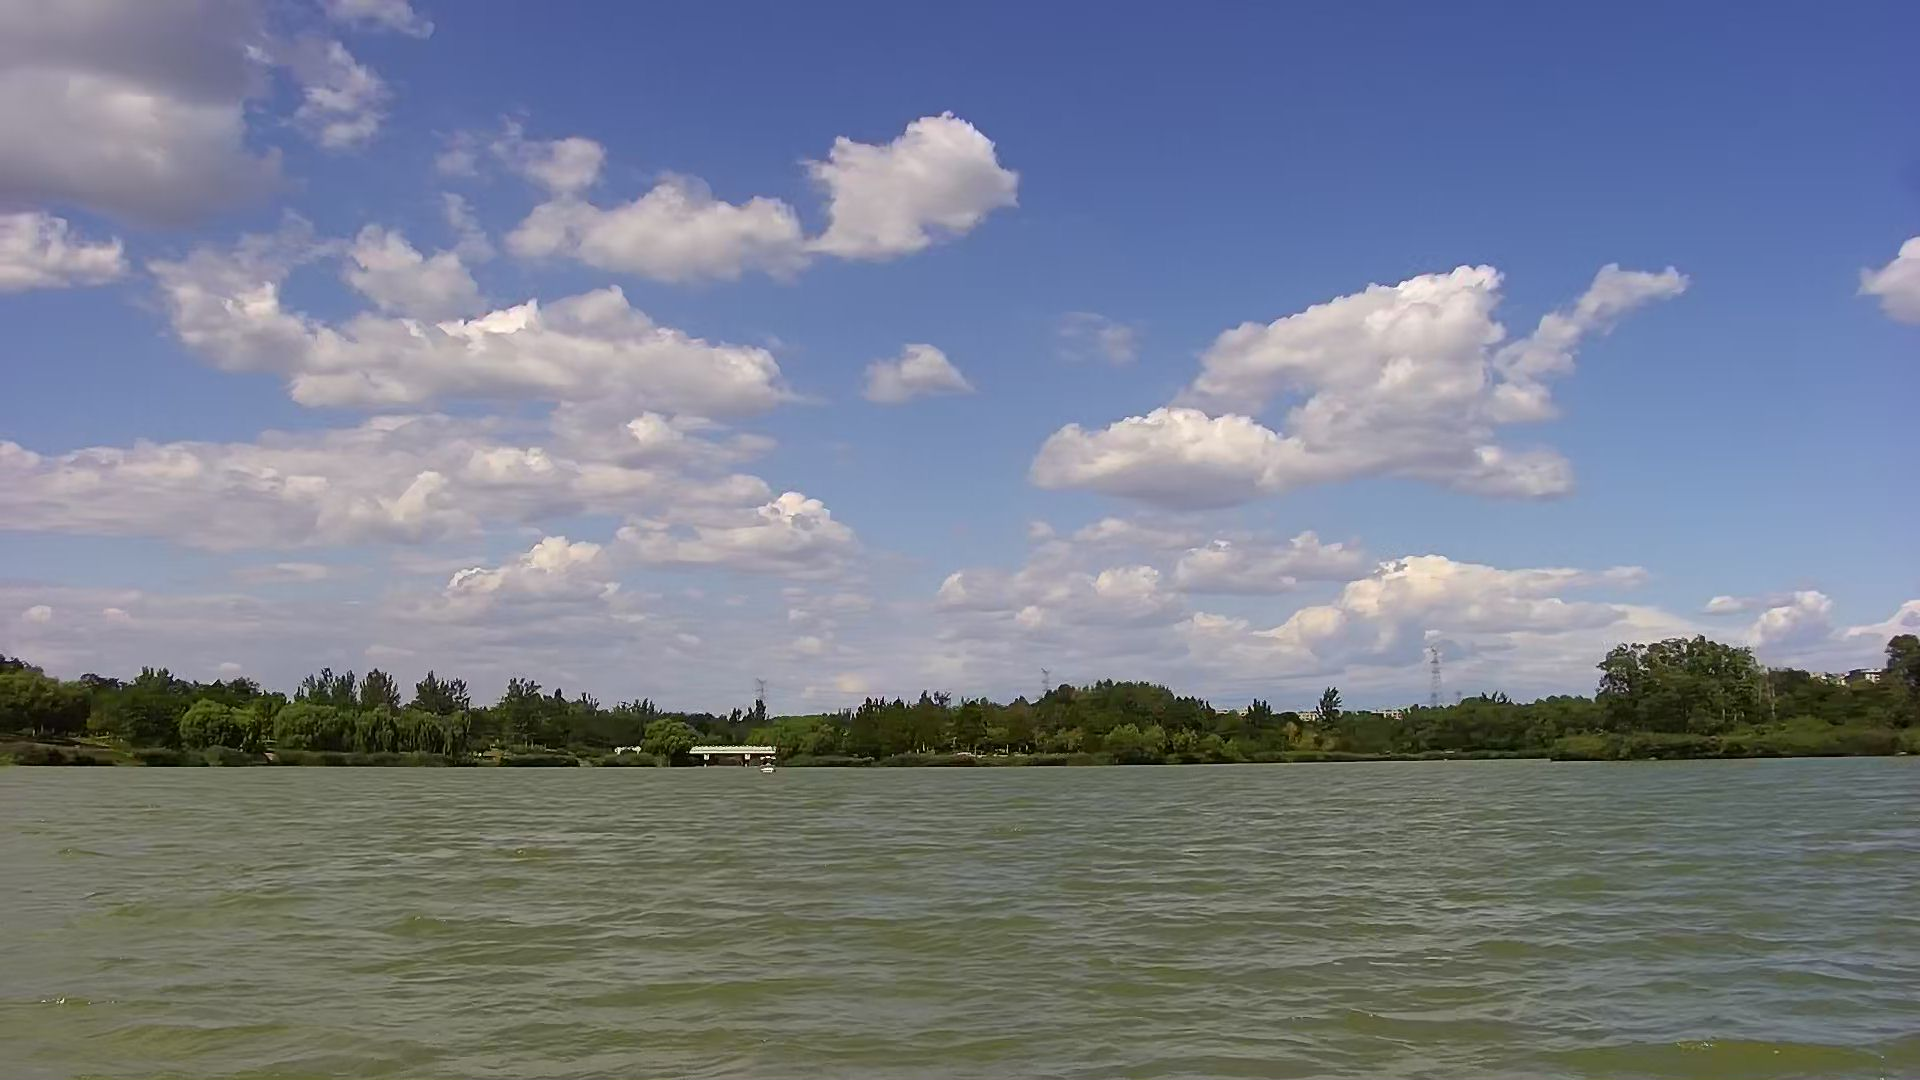bridge: (688, 745, 787, 770)
